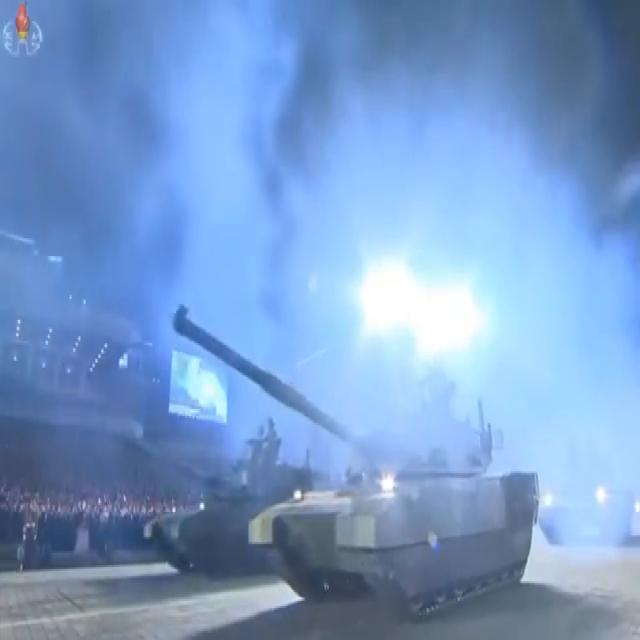north tank: (170, 288, 554, 626), (118, 388, 331, 586)
